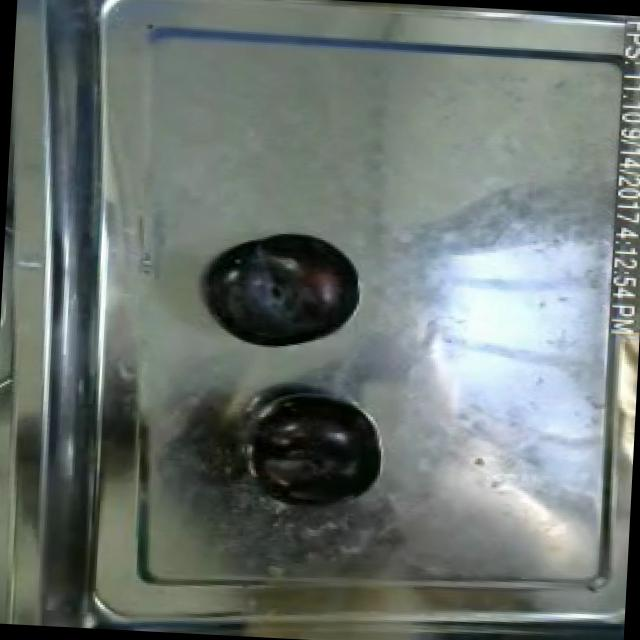Fruit: (204, 224, 364, 354), (246, 386, 386, 514)
